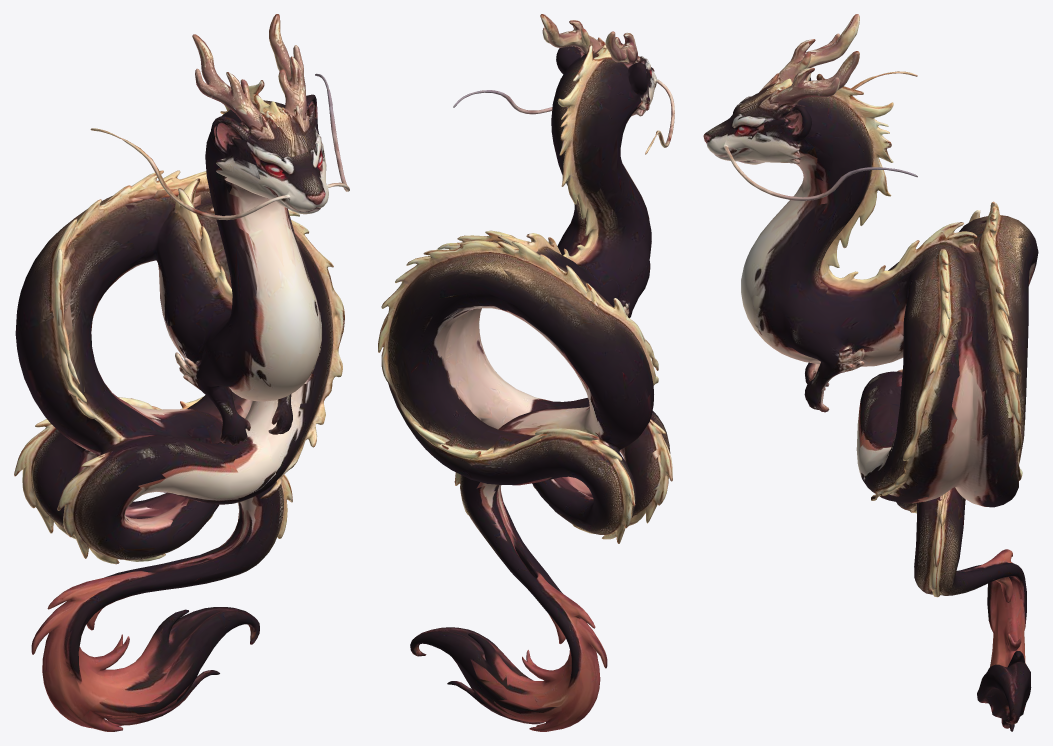
The picture shows the model from 3 angles, left to right: view 1: azimuth 30°, elevation 25°; view 2: azimuth 150°, elevation 25°; view 3: azimuth 270°, elevation 25°; orthographic projection. The views are drawn at different scales.
Parts seen in each view (by area): view 1: Mesh_0; view 2: Mesh_0; view 3: Mesh_0.
Boxes of the visible parts, x1,y1,x2,y2 form: Mesh_0: (14,14,349,731); Mesh_0: (378,14,674,731); Mesh_0: (703,14,1038,731).
Bounding box in the file's own units: 0.7689 × 1.9 × 0.8306.
1 material, 1 textured.
